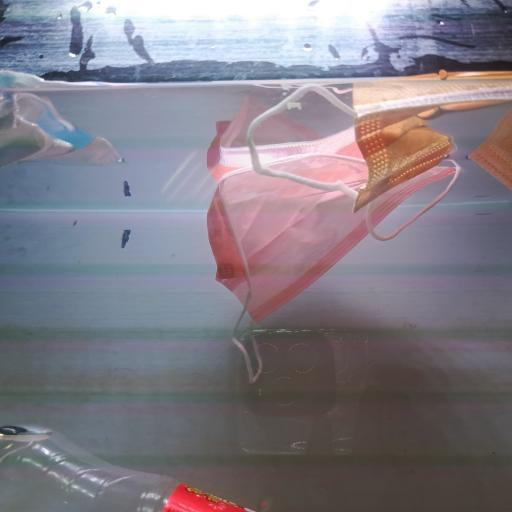mask: (198, 116, 459, 365), (251, 71, 512, 233), (0, 92, 132, 184)
plastic_bottle: (0, 420, 276, 512)
